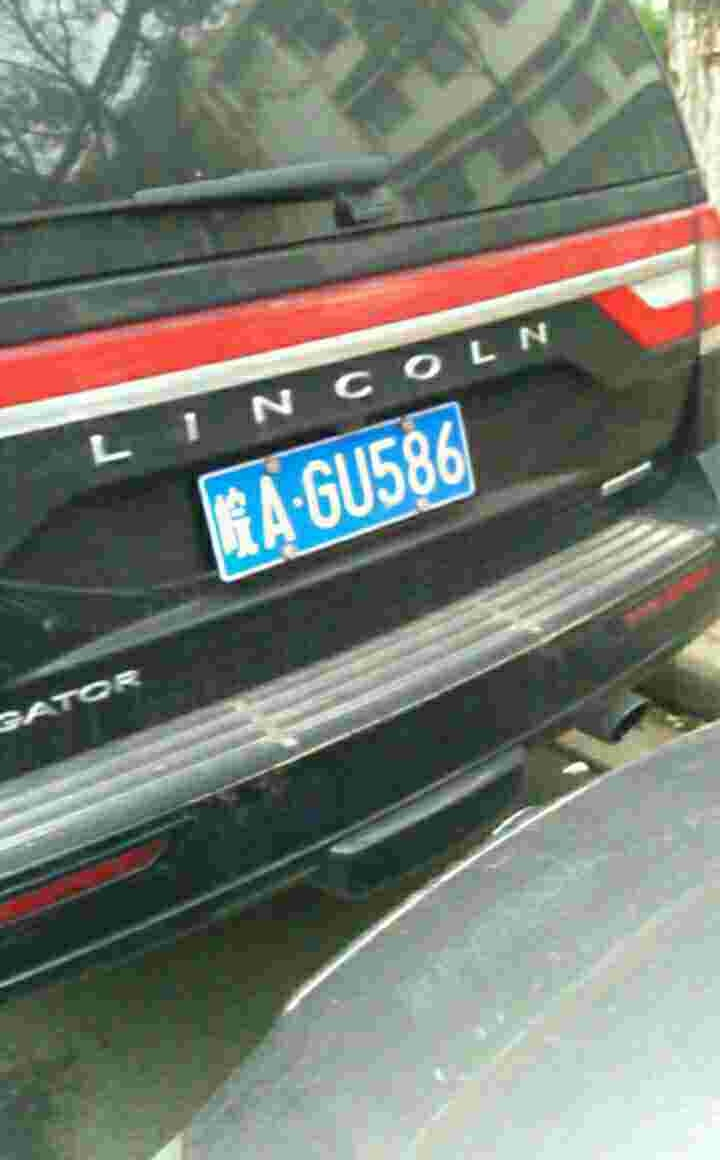license_plate: (196, 406, 477, 574)
